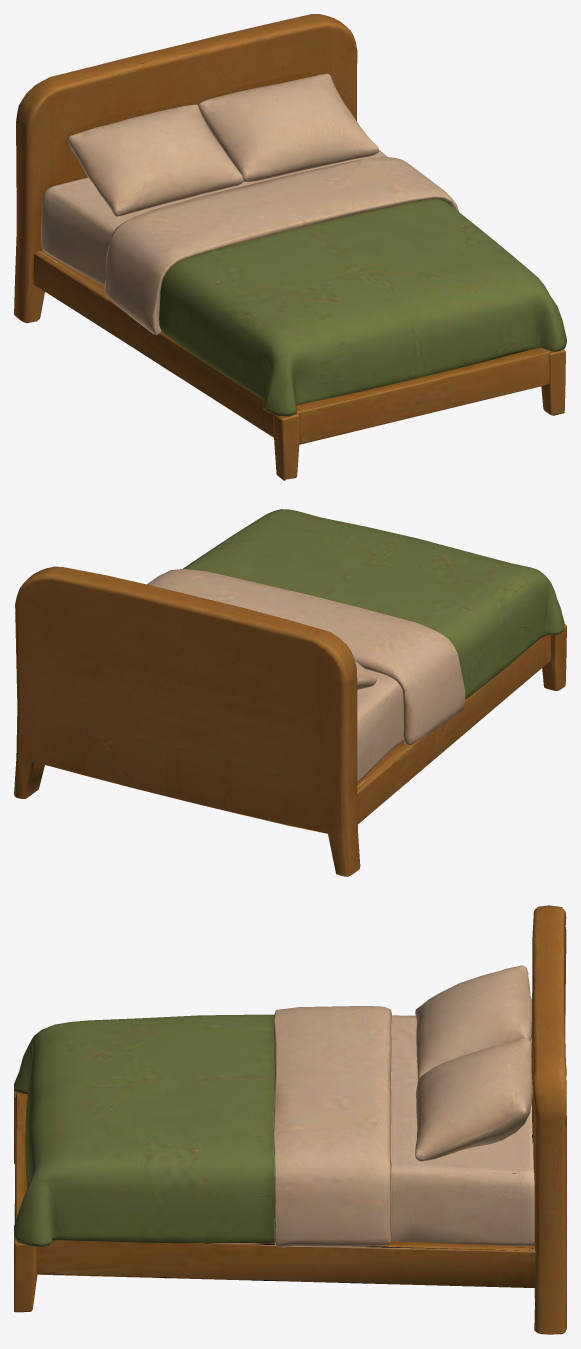
The model's file is bed.platform.glb.
3 views of the same model, one above another, from view 1: azimuth 30°, elevation 25°; view 2: azimuth 150°, elevation 25°; view 3: azimuth 270°, elevation 25° (orthographic). The views are drawn at different scales.
Visible parts, largest first — view 1: geometry_0; view 2: geometry_0; view 3: geometry_0.
Boxes of the visible parts, bbox=[...] form: geometry_0: bbox=[14, 14, 566, 480]; geometry_0: bbox=[14, 509, 566, 876]; geometry_0: bbox=[14, 905, 566, 1334].
Size of the model in its own units: 0.795 by 0.5244 by 1.
Materials: 1 (1 with a texture image).
